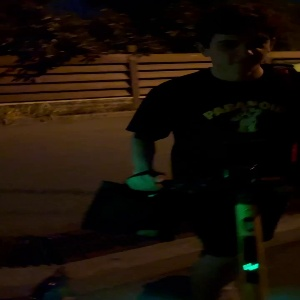human on a scooter: (82, 3, 300, 298)
